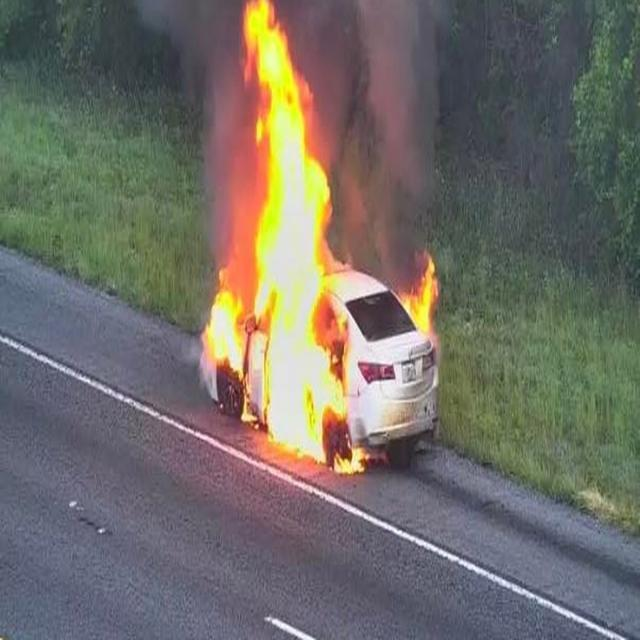Fire: (242, 2, 366, 475), (207, 286, 244, 370), (404, 255, 440, 336)
Smoke: (201, 0, 435, 271)
